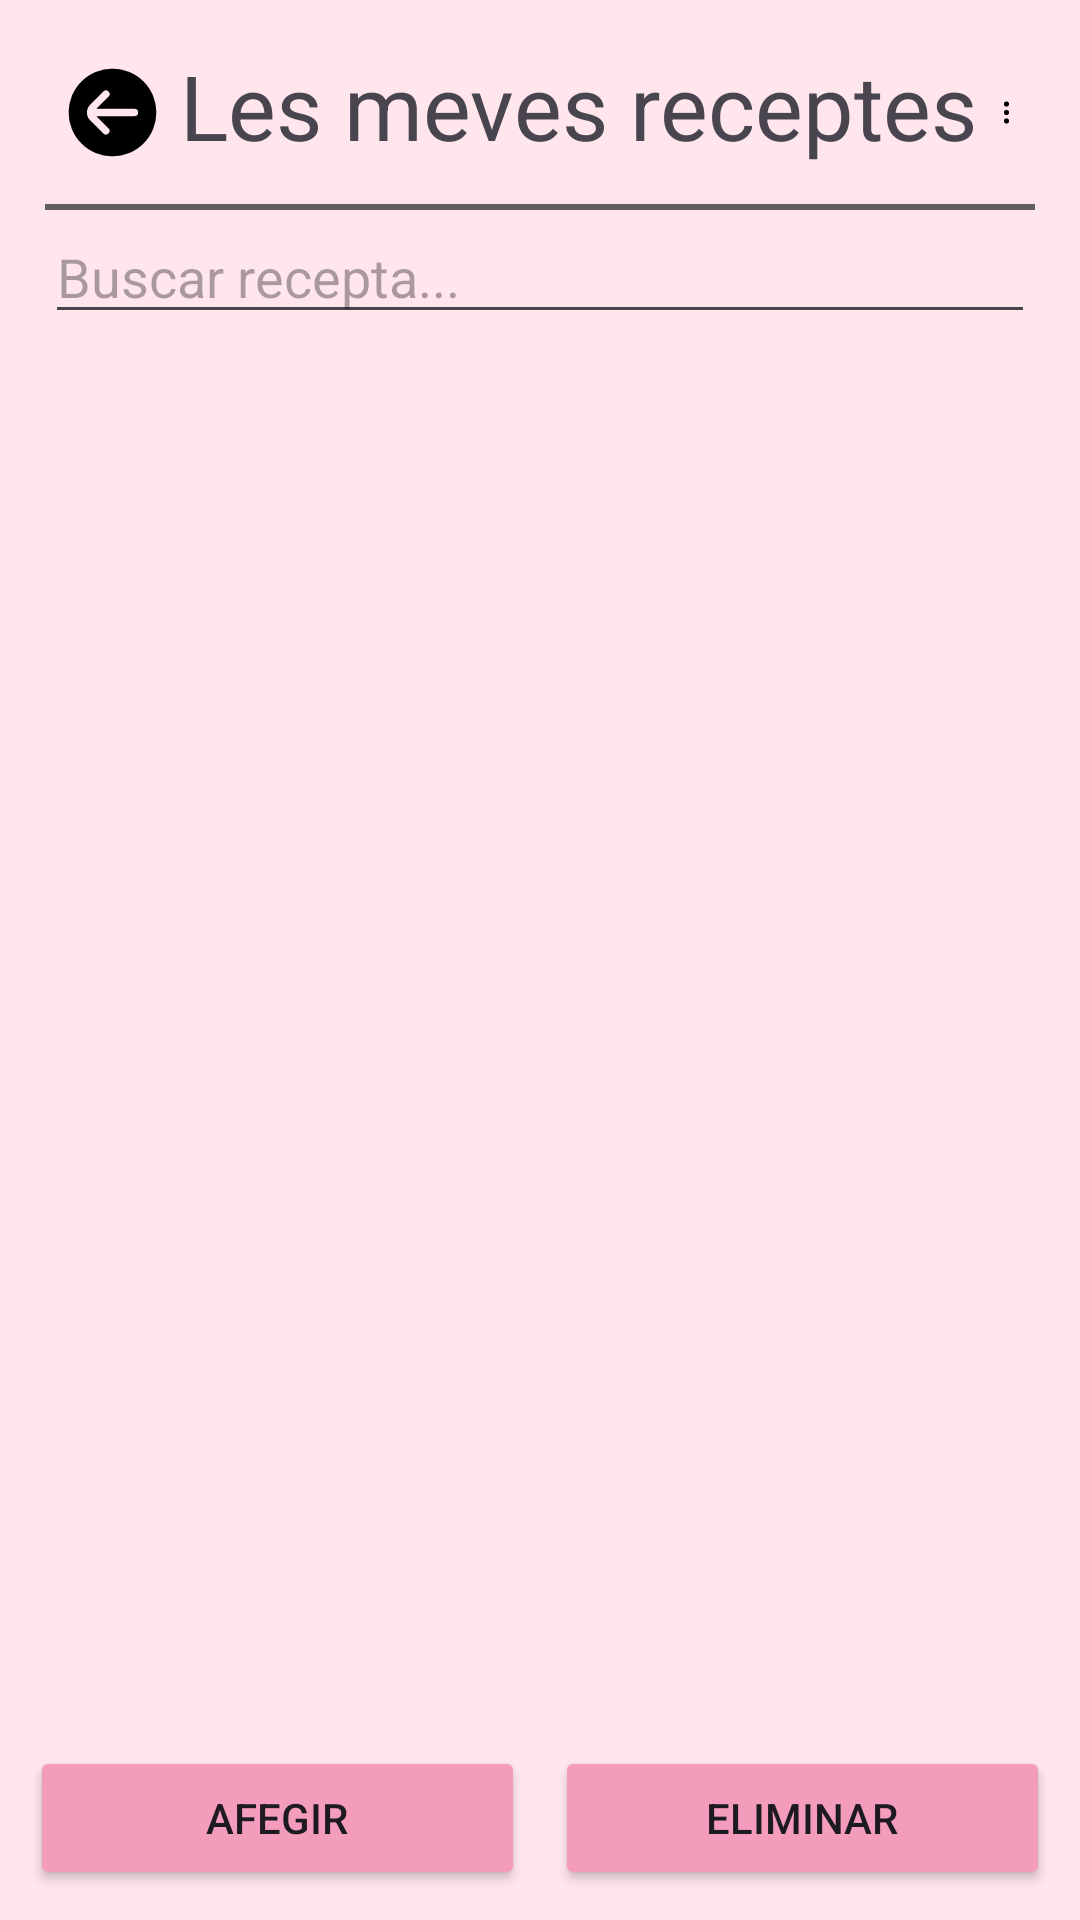

Icon bounding boxes for this 1080 x 1920 phone screenshot, format (x1, y1, x2, y2):
draw volver: (68, 68, 157, 157)
